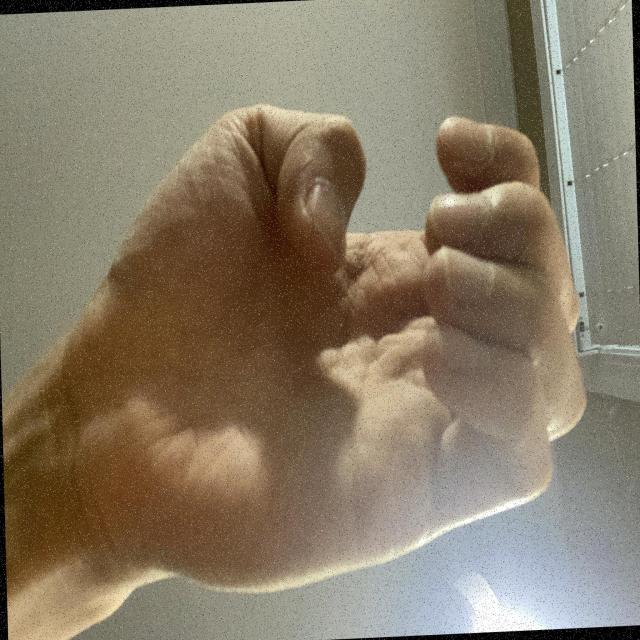E: (225, 54, 616, 640)
